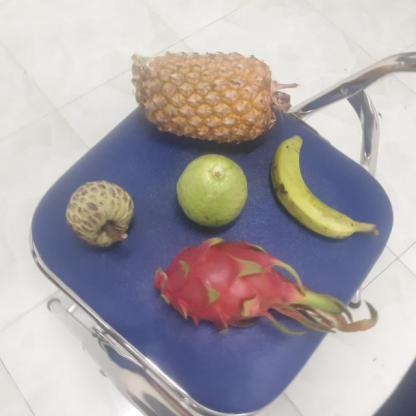annona: (62, 180, 132, 248)
banana: (264, 137, 362, 240)
guava: (174, 153, 248, 229)
pineapple: (134, 51, 277, 146)
pitaya: (147, 238, 300, 332)
